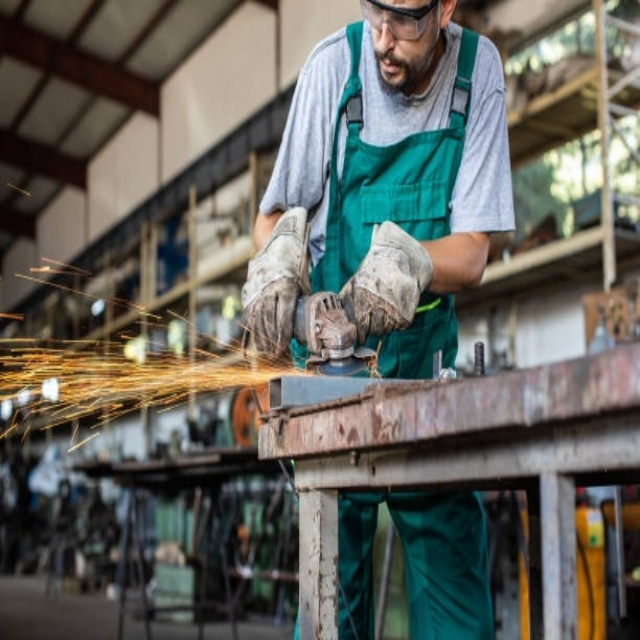Gafas: (360, 0, 444, 42)
Guantes: (332, 221, 432, 347), (241, 208, 314, 358)
Sin_mascara: (374, 53, 407, 91)
